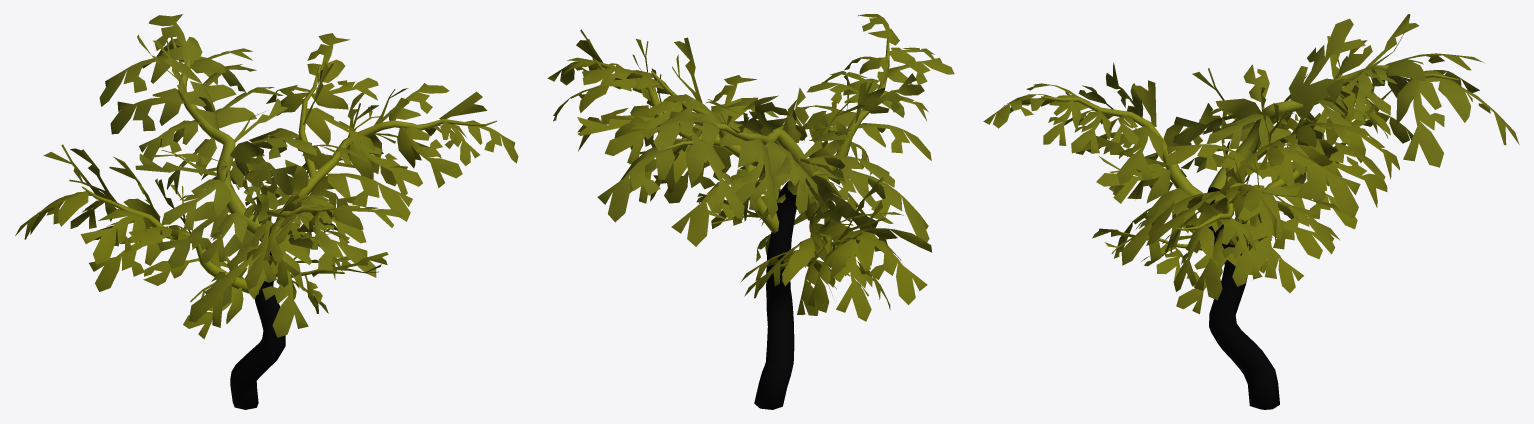
File: tree.FBX
The picture shows the model from 3 angles, left to right: view 1: azimuth 30°, elevation 25°; view 2: azimuth 150°, elevation 25°; view 3: azimuth 270°, elevation 25°; orthographic projection. The views are drawn at different scales.
Visible parts, largest first — view 1: tree; view 2: tree; view 3: tree.
Part boxes in pixels (x1,y1,x2,y2): tree: (15,14,518,409); tree: (547,14,954,409); tree: (983,14,1519,409).
Bounding box in the file's own units: 805 × 798 × 612.
